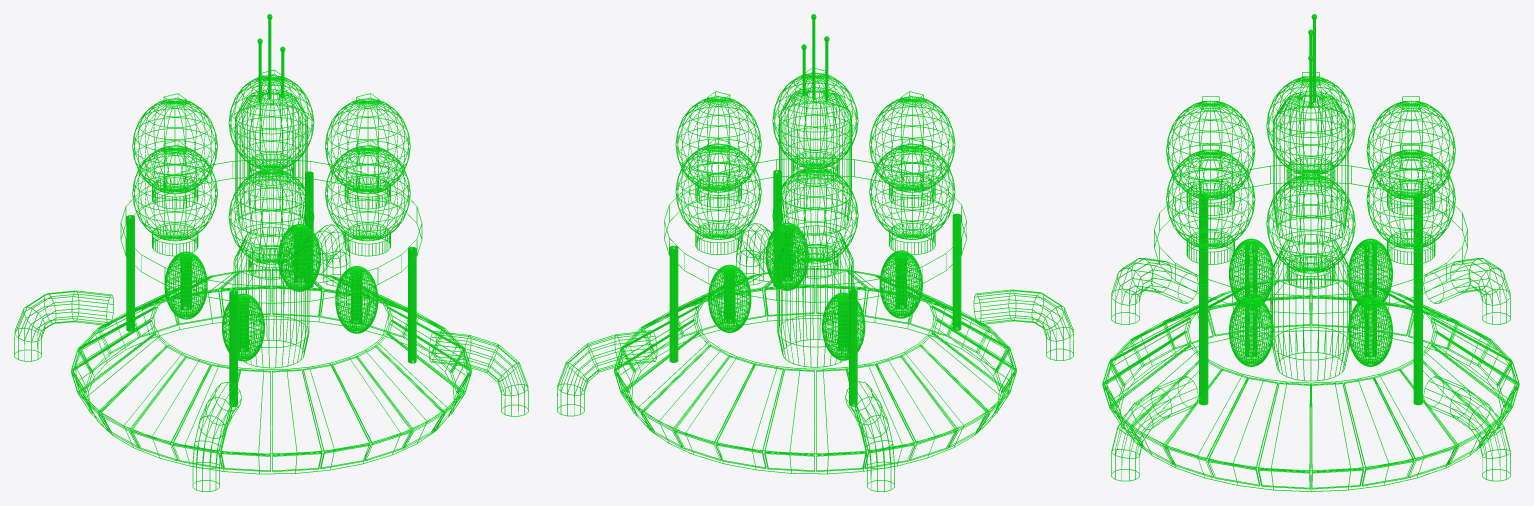
File: powerplant-wireframe.glb
3 renders of one model, left to right at view 1: azimuth 30°, elevation 25°; view 2: azimuth 150°, elevation 25°; view 3: azimuth 270°, elevation 25°, orthographic. The views are drawn at different scales.
Visible parts, largest first — view 1: six-fusion-reactor-cells technical wire, chassis technical wire, asteros-mini-mining-facility technical wire, four-waste-ore-pipes technical wire, control-computer-and-antennae technical wire; view 2: six-fusion-reactor-cells technical wire, chassis technical wire, asteros-mini-mining-facility technical wire, four-waste-ore-pipes technical wire, control-computer-and-antennae technical wire; view 3: six-fusion-reactor-cells technical wire, chassis technical wire, asteros-mini-mining-facility technical wire, four-waste-ore-pipes technical wire, control-computer-and-antennae technical wire.
Boxes of the visible parts, x1,y1,x2,y2 form: six-fusion-reactor-cells technical wire: (132,69,410,279); chassis technical wire: (71,159,471,474); asteros-mini-mining-facility technical wire: (164,224,378,368); four-waste-ore-pipes technical wire: (14,224,528,491); control-computer-and-antennae technical wire: (235,14,307,236); six-fusion-reactor-cells technical wire: (675,68,955,278); chassis technical wire: (614,157,1016,474); asteros-mini-mining-facility technical wire: (708,222,922,367); four-waste-ore-pipes technical wire: (557,223,1073,491); control-computer-and-antennae technical wire: (779,14,851,235); six-fusion-reactor-cells technical wire: (1166,72,1455,289); chassis technical wire: (1102,163,1519,491); asteros-mini-mining-facility technical wire: (1229,234,1392,381); four-waste-ore-pipes technical wire: (1111,258,1510,481); control-computer-and-antennae technical wire: (1273,14,1348,244).
Bounding box in the file's own units: 2.45 × 2.57 × 2.45.
